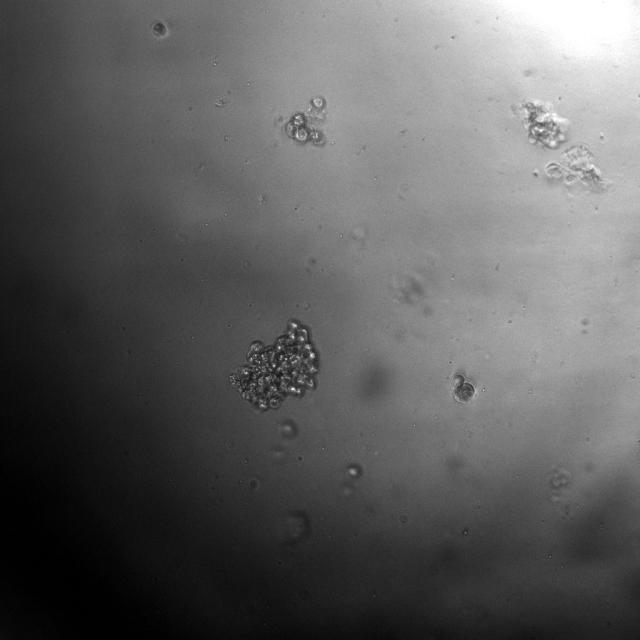organoid: (229, 321, 318, 410), (545, 144, 610, 192), (514, 101, 569, 148), (284, 96, 326, 145), (451, 373, 476, 403), (151, 20, 169, 39)
